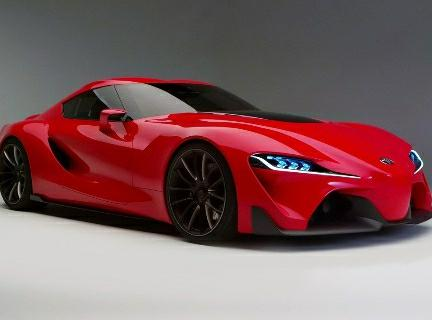car: (0, 66, 432, 254)
